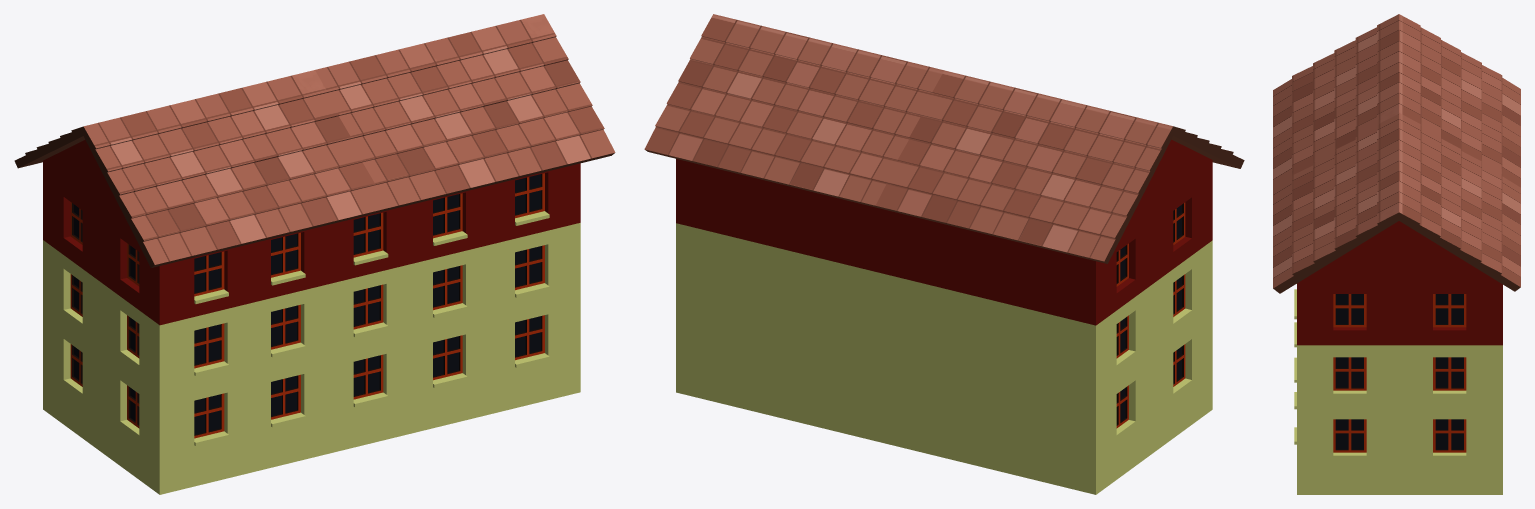
The model's file is house_7.FBX.
The picture shows the model from 3 angles, left to right: view 1: azimuth 30°, elevation 25°; view 2: azimuth 150°, elevation 25°; view 3: azimuth 270°, elevation 25°; orthographic projection. The views are drawn at different scales.
Parts seen in each view (by area): view 1: Box1485, house_2_roof016, house_2_roof017, Box1486, Box1487, house_009, house_2_underroof016, house_2_underroof015; view 2: Box1485, Box1487, Box1486, house_2_roof017, house_2_roof016, house_009, house_2_underroof016; view 3: house_2_roof017, house_2_roof016, Box1485, Box1487, Box1486, house_009, house_2_underroof015.
Boxes of the visible parts, x1,y1,x2,y2 form: Box1485: (43,284,580,494); house_2_roof016: (83,70,386,264); house_2_roof017: (315,14,615,208); Box1486: (43,223,580,396); Box1487: (43,140,580,325); house_009: (70,173,549,445); house_2_underroof016: (14,126,385,267); house_2_underroof015: (383,153,614,211); Box1485: (676,284,1212,494); Box1487: (676,139,1212,325); Box1486: (676,223,1212,396); house_2_roof017: (644,14,944,205); house_2_roof016: (875,70,1172,261); house_009: (1116,202,1185,428); house_2_underroof016: (876,126,1244,263); house_2_roof017: (1273,113,1520,288); house_2_roof016: (1273,14,1520,189); Box1485: (1297,399,1502,494); Box1487: (1297,221,1502,345); Box1486: (1297,345,1502,408); house_009: (1294,283,1466,452); house_2_underroof015: (1273,212,1520,293).
Size of the model in its own units: 70.4 by 48.3 by 37.19.
